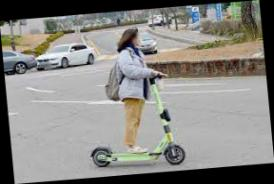nonhelmet: (78, 24, 189, 172)
